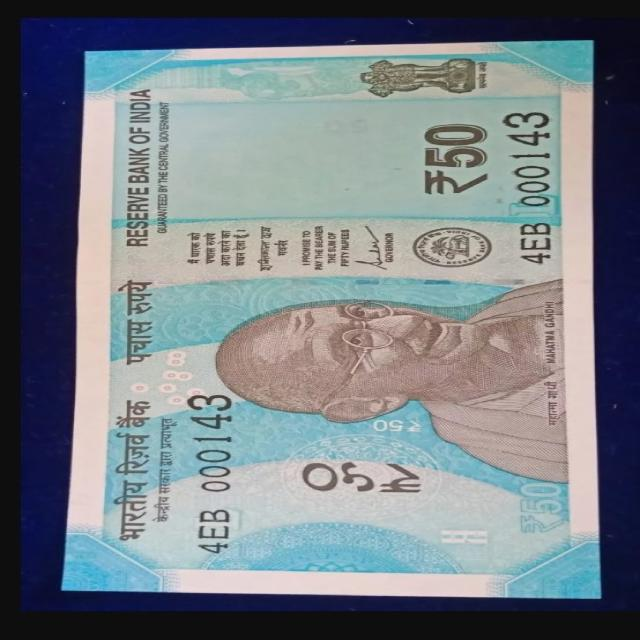50IndianRupees: (55, 38, 594, 588)
